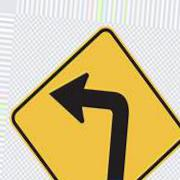left: (11, 27, 179, 180)
